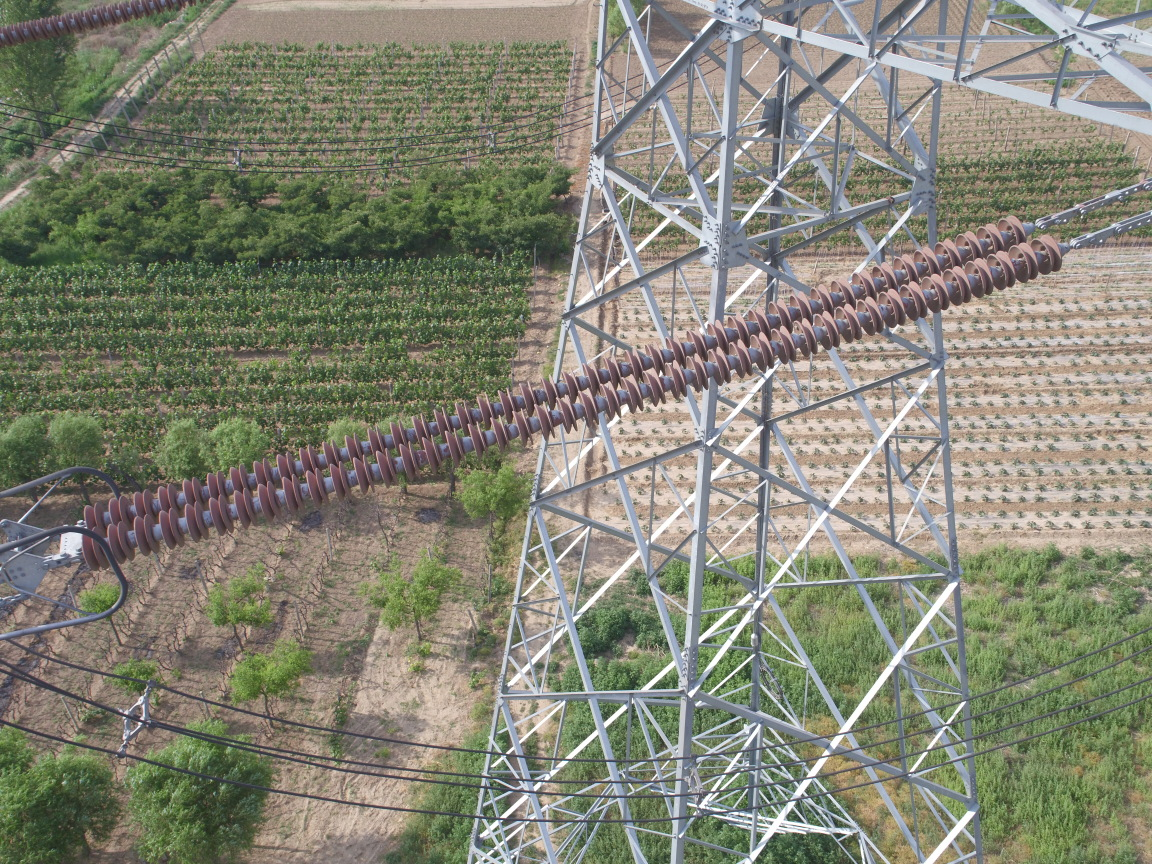insulator: (36, 203, 1123, 582)
